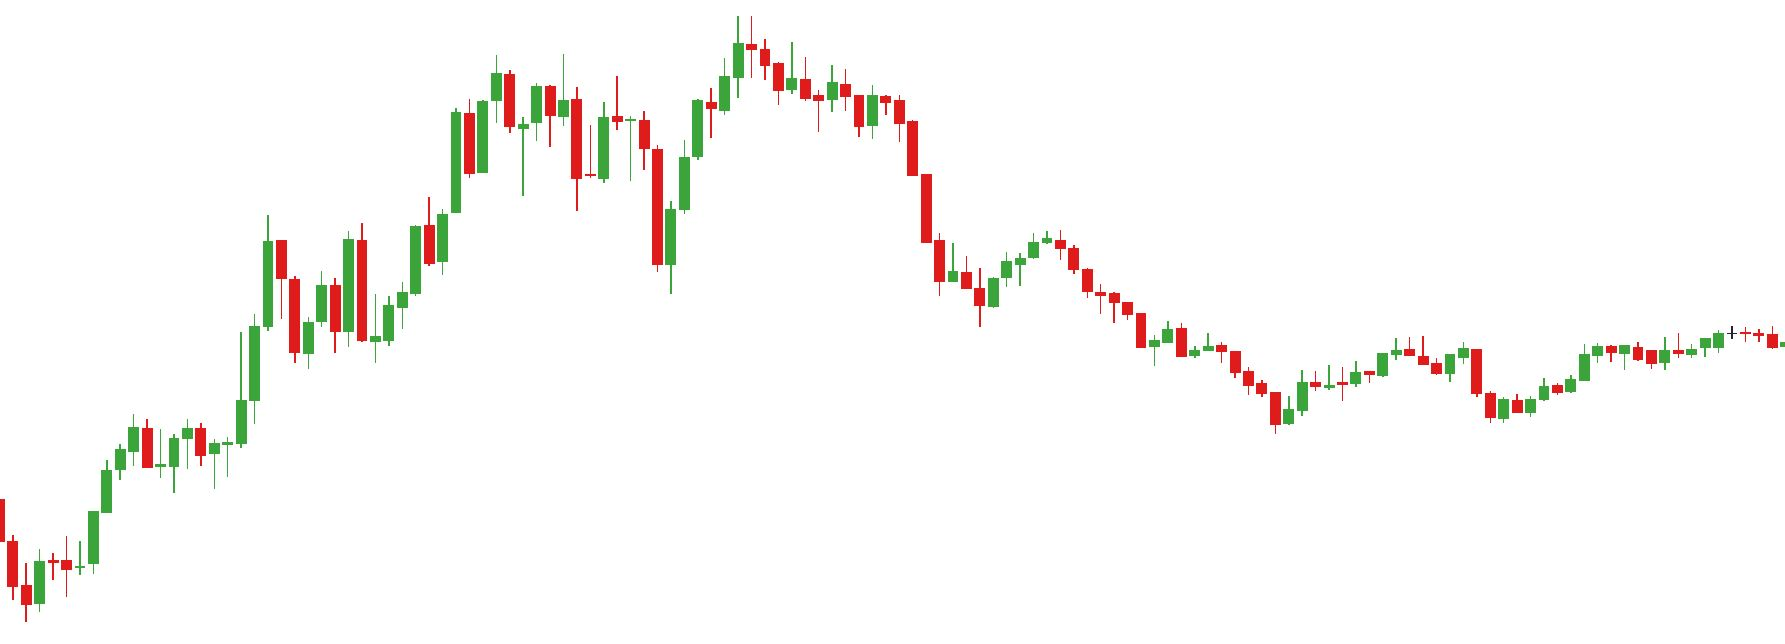buy: (566, 100, 692, 298)
